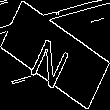N_NE: (31, 23, 79, 87)
